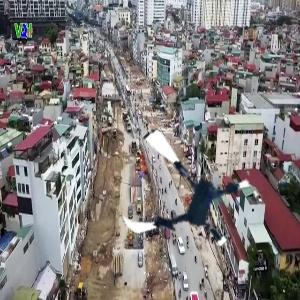drone: (116, 126, 249, 259)
